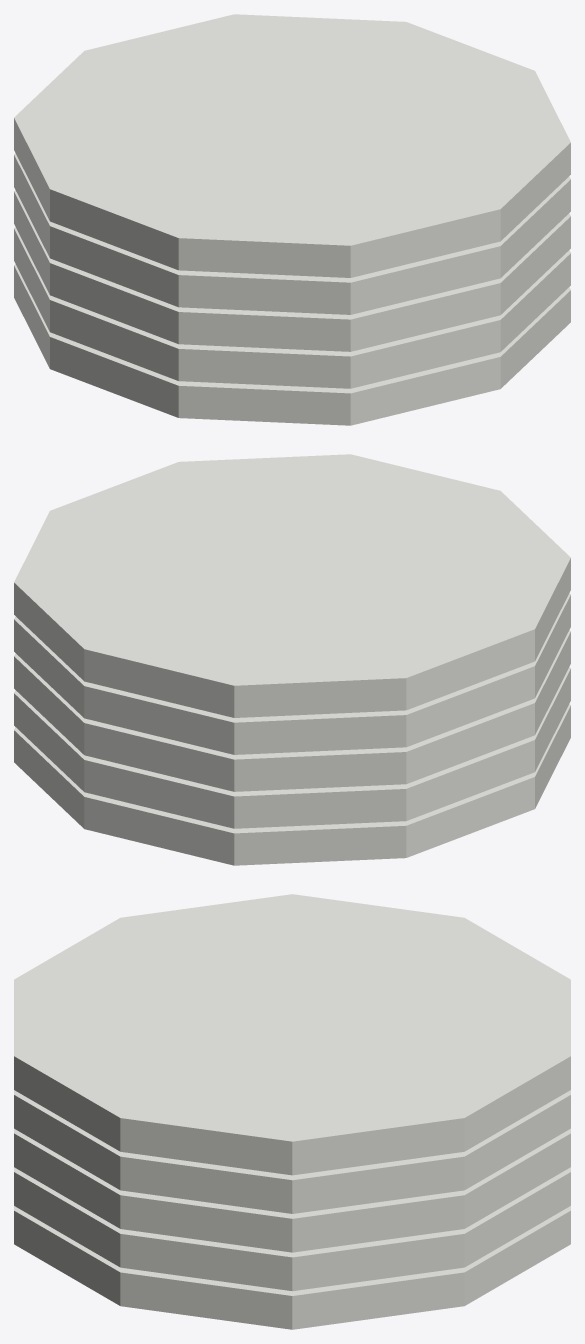
The model's file is GH_Plates_01.glb.
The picture shows the model from 3 angles, top to bottom: view 1: azimuth 30°, elevation 25°; view 2: azimuth 150°, elevation 25°; view 3: azimuth 270°, elevation 25°; orthographic projection. The views are drawn at different scales.
Visible parts, largest first — view 1: GH_Plates_01; view 2: GH_Plates_01; view 3: GH_Plates_01.
Part boxes in pixels (box(x1,y1,x2,y2)): GH_Plates_01: box(14, 14, 570, 425); GH_Plates_01: box(14, 454, 570, 865); GH_Plates_01: box(14, 894, 570, 1329).
Bounding box in the file's own units: 0.22 × 0.078 × 0.2092.
1 material, 1 textured.
